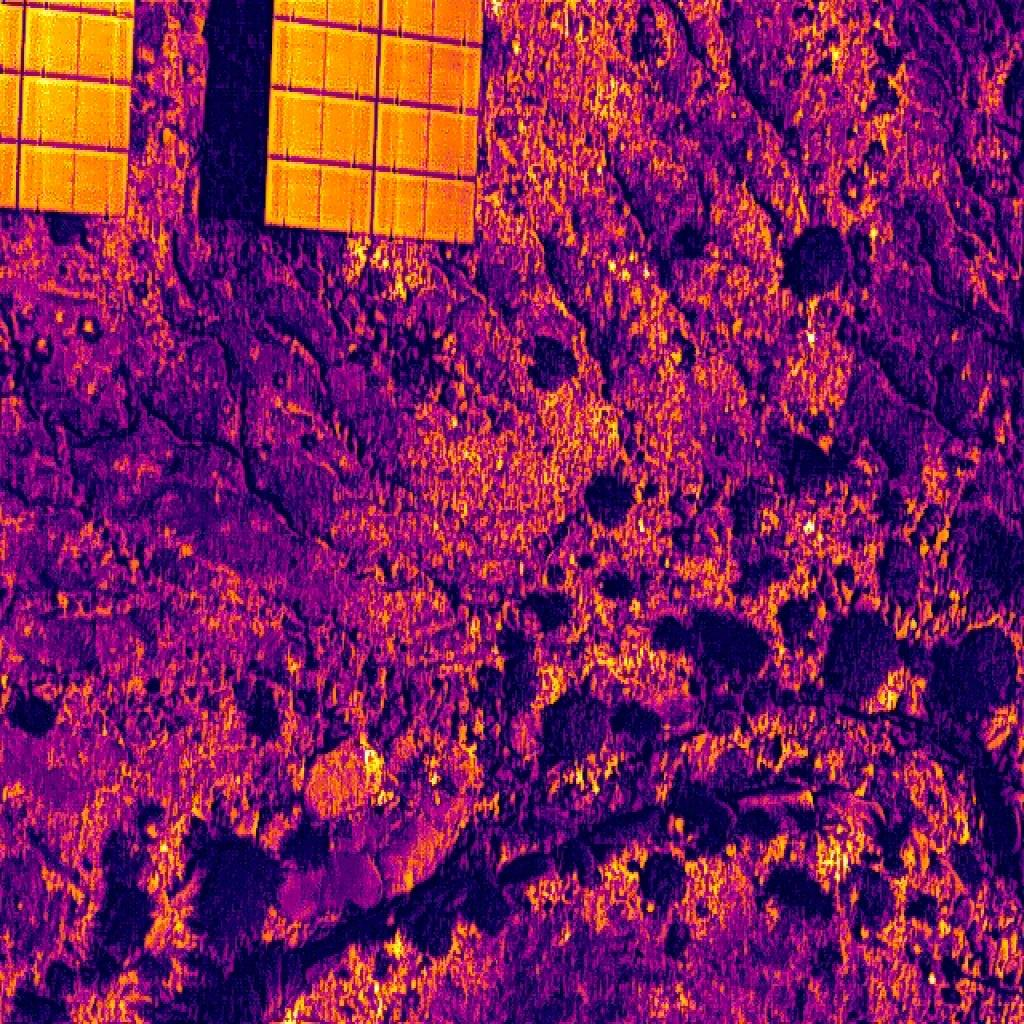panel: (20, 75, 129, 152), (372, 171, 477, 245)
